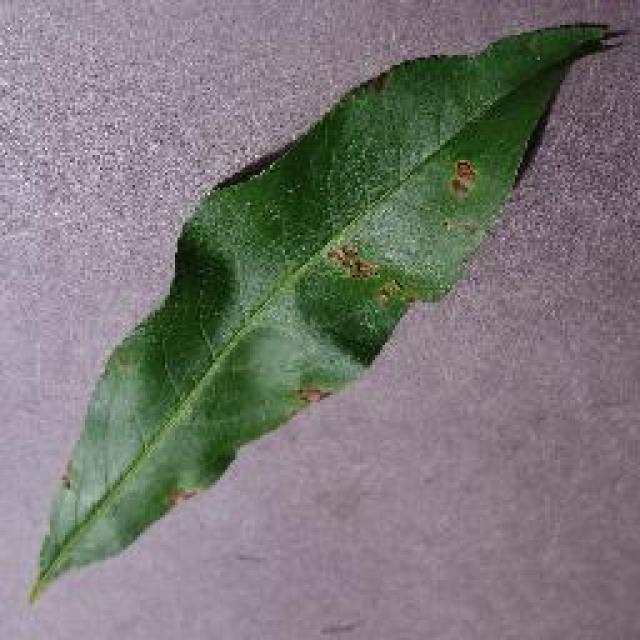Peach_Bacterial_Spot: (272, 112, 485, 383)
